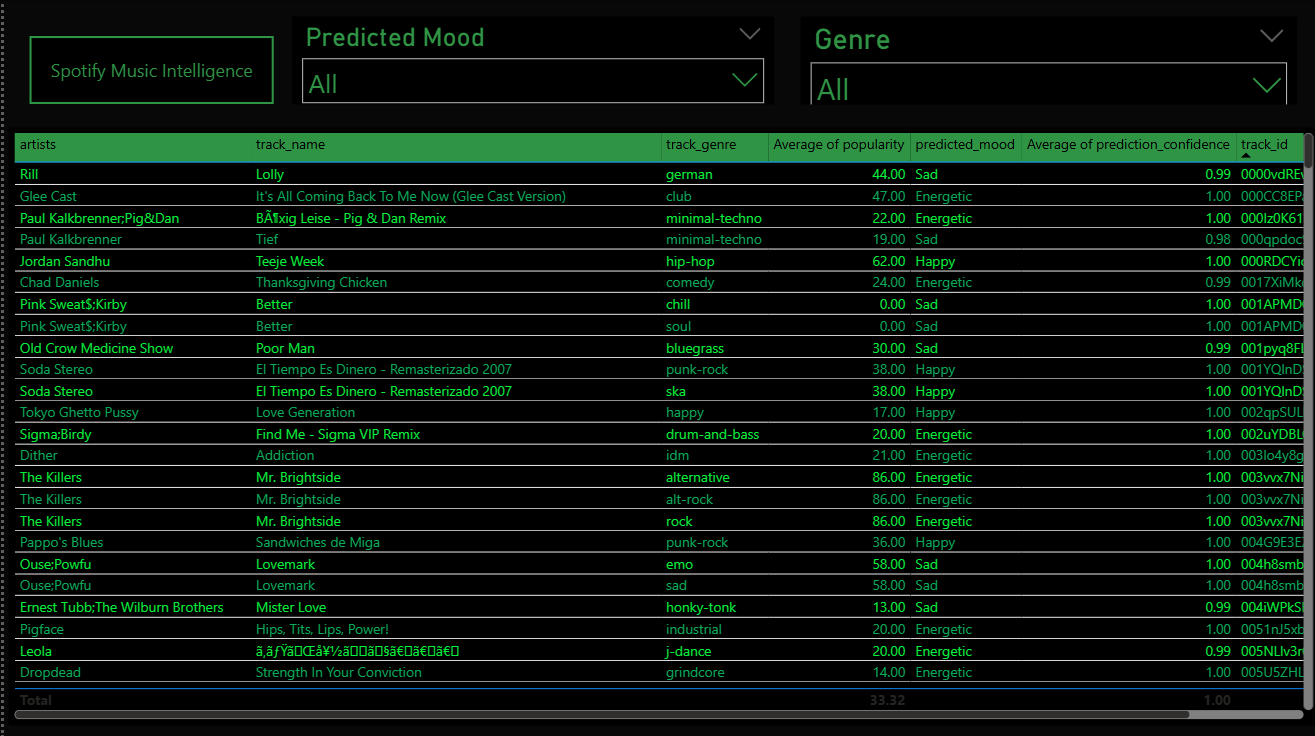

What the dashboard file says about the page in this screenshot:
{"tool":"powerbi","page":{"name":"Song Explorer","canvas":[1280,720],"ordinal":3},"visuals":[{"type":"tableEx","fields":{"Values":["spotify_mood_prediction.artists","spotify_mood_prediction.track_name","spotify_mood_prediction.track_genre","Avg(spotify_mood_prediction.popularity)","spotify_mood_prediction.predicted_mood","Avg(spotify_mood_prediction.prediction_confidence)","spotify_mood_prediction.track_id"]},"box":[4.8,124.2,1271,579],"z":0},{"type":"slicer","fields":{"Values":["spotify_mood_prediction.predicted_mood"]},"box":[279,16.1,467.7,85.5],"z":1000},{"type":"slicer","fields":{"Values":["spotify_mood_prediction.track_genre"]},"box":[772.6,16.1,482.3,85.5],"z":2000},{"type":"pageNavigator","box":[24.2,35.5,237.1,66.1],"z":3000}]}

Visuals, with their boxes in screenshot pixels (x1, y1, x2, y2), scaled from the page's 1280x720 canvas onto the 1315x736 screenshot:
tableEx - spotify_mood_prediction.artists x spotify_mood_prediction.track_name: [5,127,1311,719]
slicer - spotify_mood_prediction.predicted_mood: [287,16,767,104]
slicer - spotify_mood_prediction.track_genre: [794,16,1289,104]
pageNavigator: [25,36,268,104]
